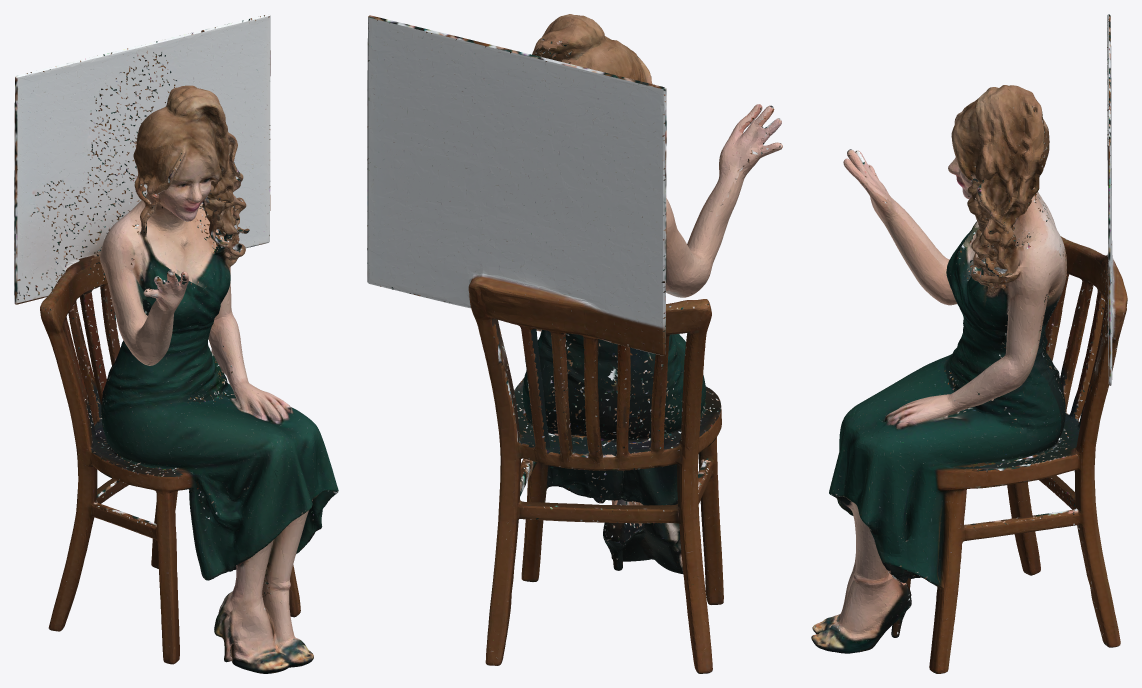
The model's file is shiro.glb.
3 renders of one model, left to right at view 1: azimuth 30°, elevation 25°; view 2: azimuth 150°, elevation 25°; view 3: azimuth 270°, elevation 25°, orthographic. The views are drawn at different scales.
Parts seen in each view (by area): view 1: geometry_0; view 2: geometry_0; view 3: geometry_0.
Boxes of the visible parts, bbox=[...] form: geometry_0: bbox=[14, 14, 338, 673]; geometry_0: bbox=[367, 14, 782, 673]; geometry_0: bbox=[811, 14, 1127, 673].
Bounding box in the file's own units: 1.04 × 1.99 × 1.03.
1 material, 1 textured.
